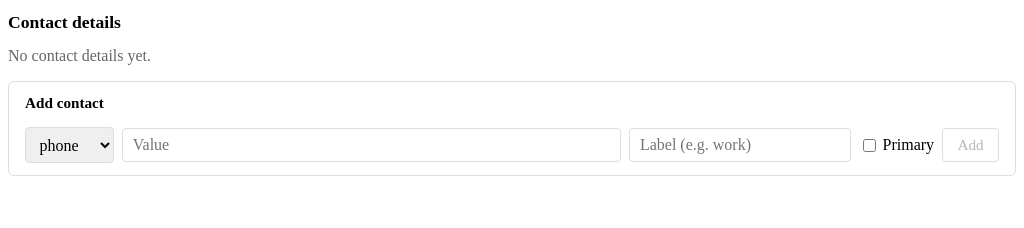
Scenario: ContactDetailsPanel › surfaces a server 409 if it slips past the client guard
The width and height of the screenshot is (1024, 228).
Check: the text "No contact details yet." is shown, box [8,47,151,64]
Type "+1 555 0100" into the field named "Contact value" at (372, 145), box [122,128,621,162]
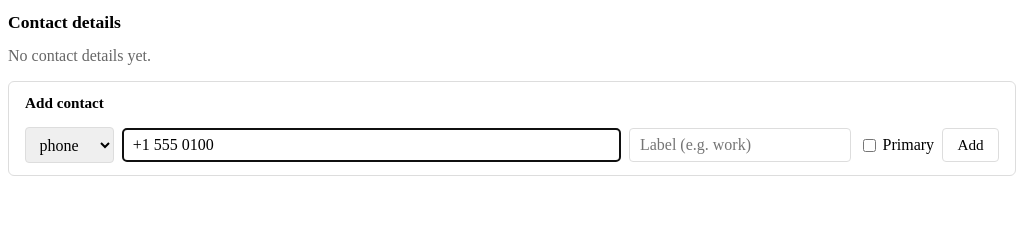
Click the button "Add" at (971, 145), box [942,128,999,162]
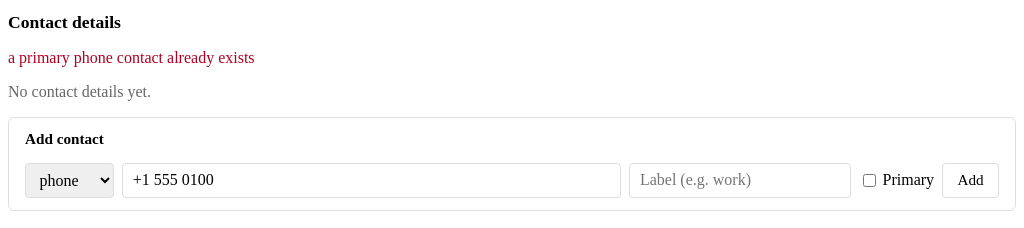
Check: the message reads "a primary phone contact already exists", box [8,49,255,66]
